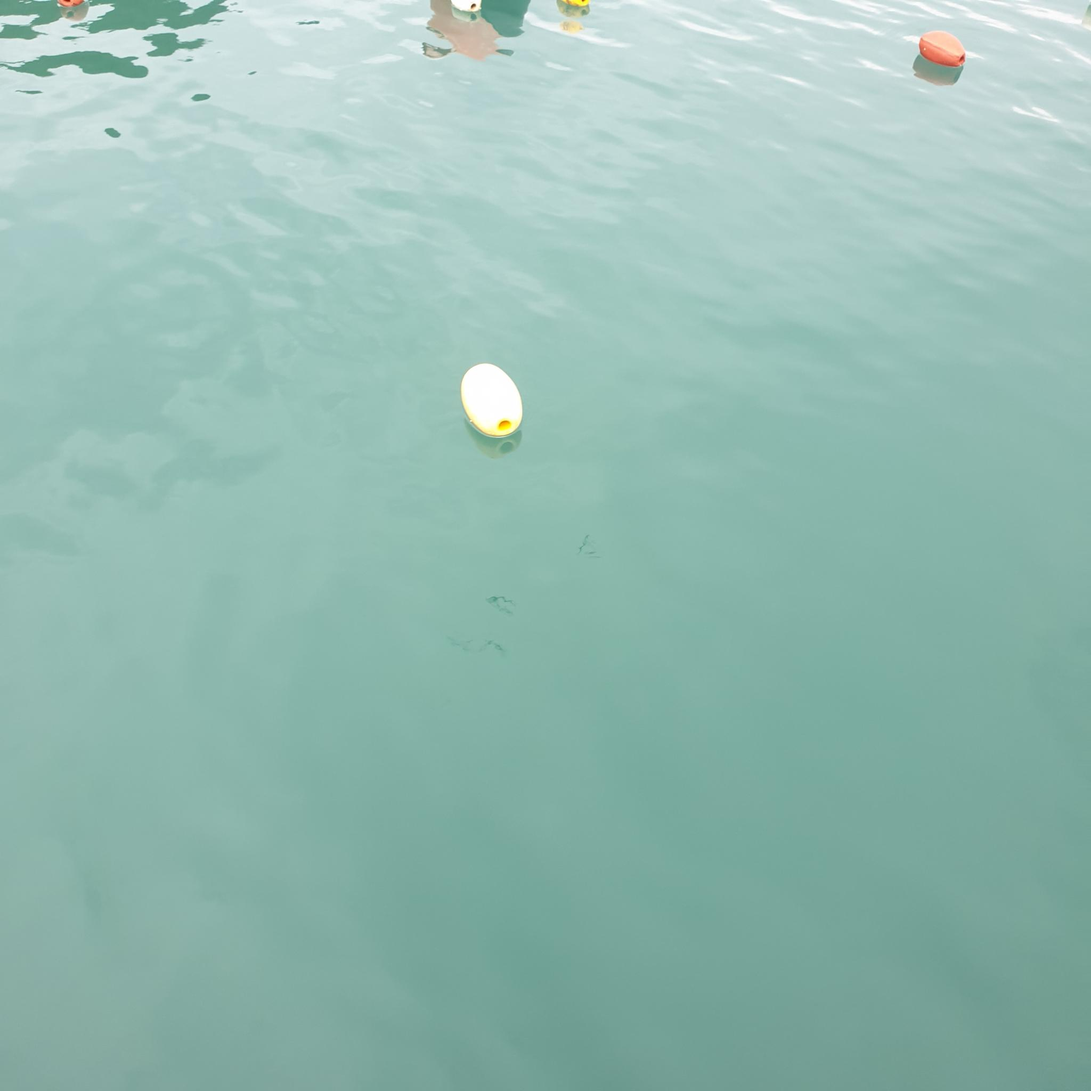sampah_terapung: (461, 363, 524, 437), (920, 31, 966, 68), (451, 1, 482, 12), (59, 1, 84, 8), (563, 1, 592, 7)
